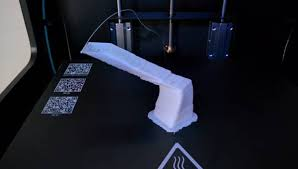fail: (75, 8, 167, 50)
